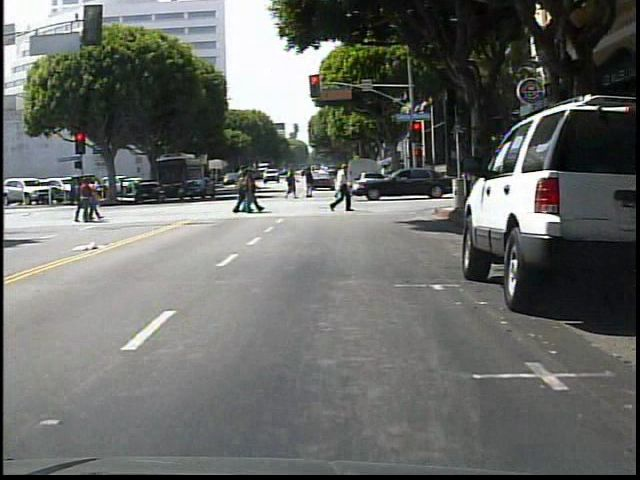person: (330, 160, 356, 216)
